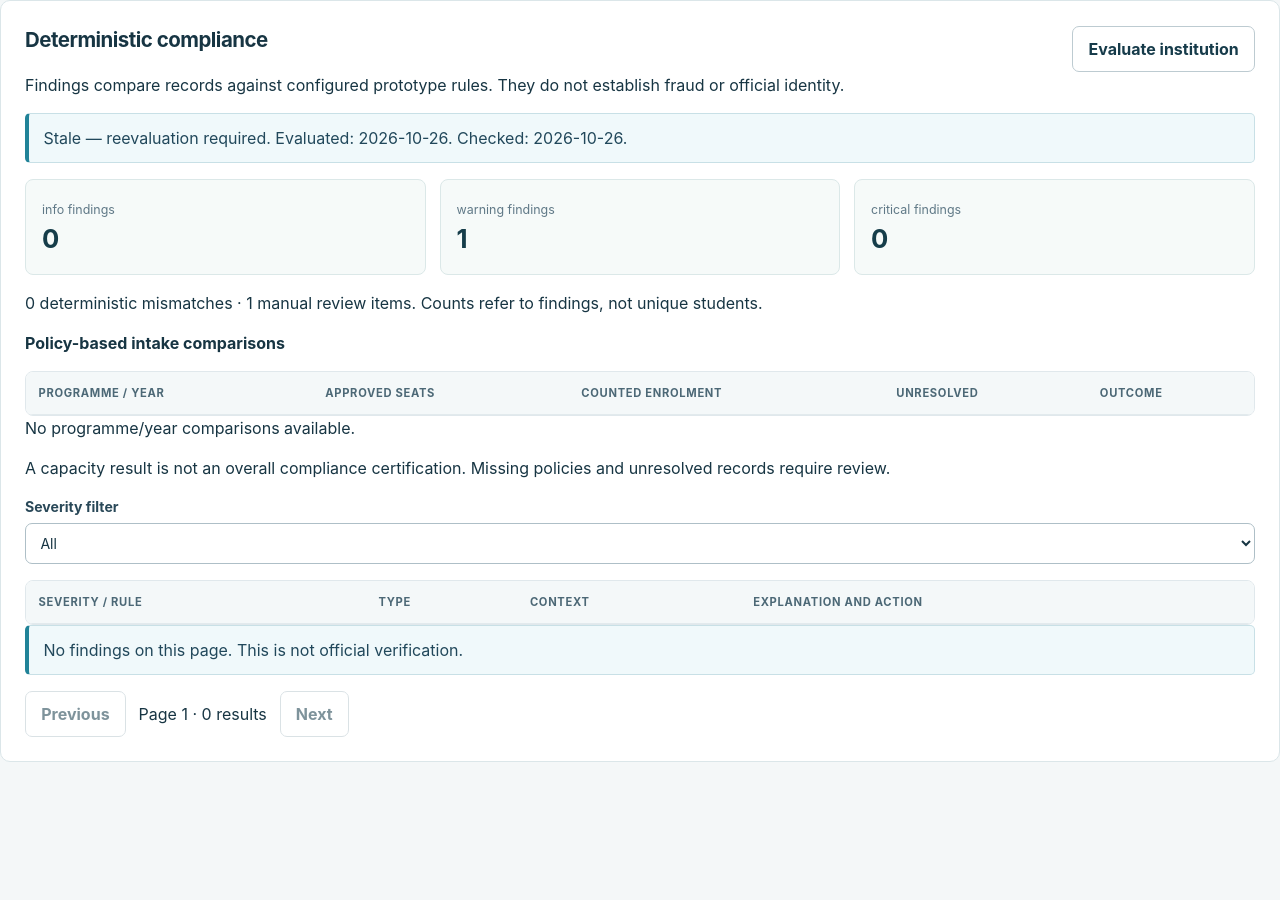
Test case: compliance and ML › keeps evaluation errors visible
The image size is (1280, 900).
Expected: the text "Stale — reevaluation required. Evaluated: 2026-10-26. Checked: 2026-10-26." is shown, [25, 113, 1255, 163]
Click the button "Evaluate institution": x=1164, y=49 [1072, 26, 1255, 72]
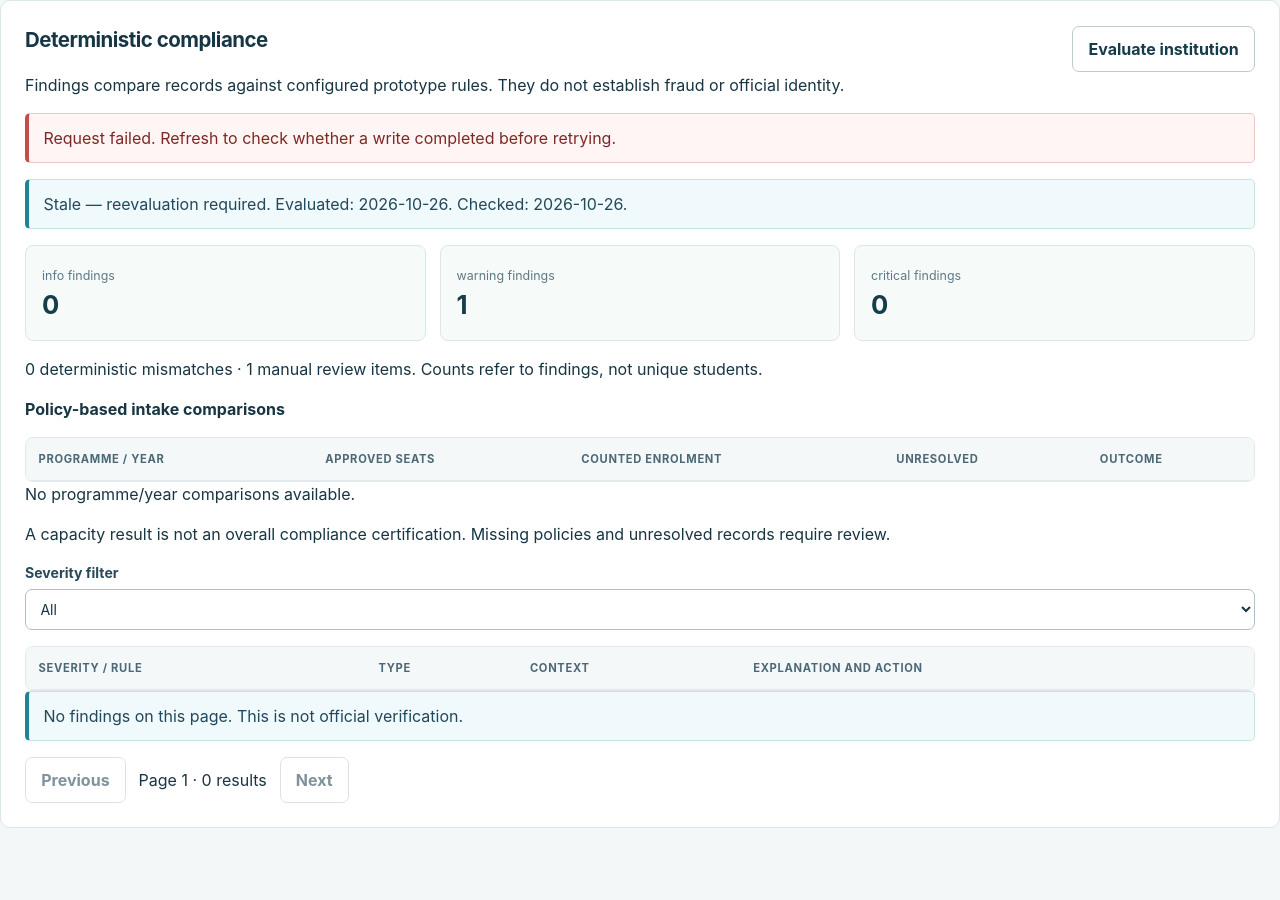
Now the message "Request failed. Refresh to check whether a write completed before retrying." is shown, box [25, 113, 1255, 163]
